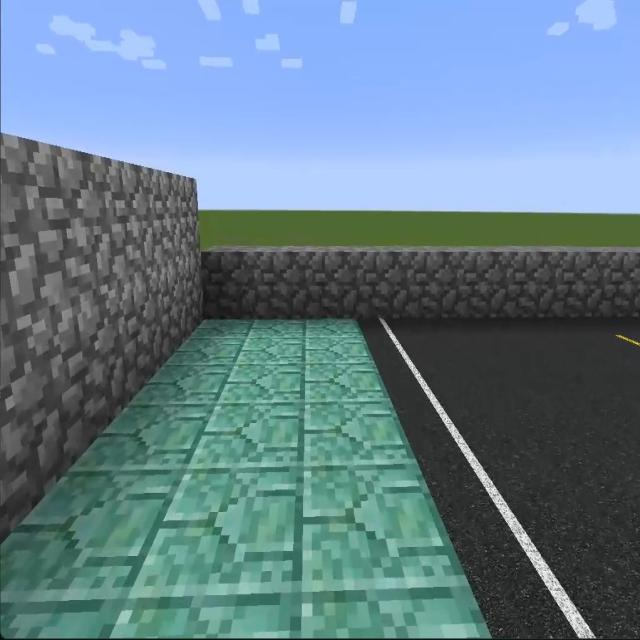road: (372, 321, 637, 634)
sidewalk: (0, 320, 490, 639)
